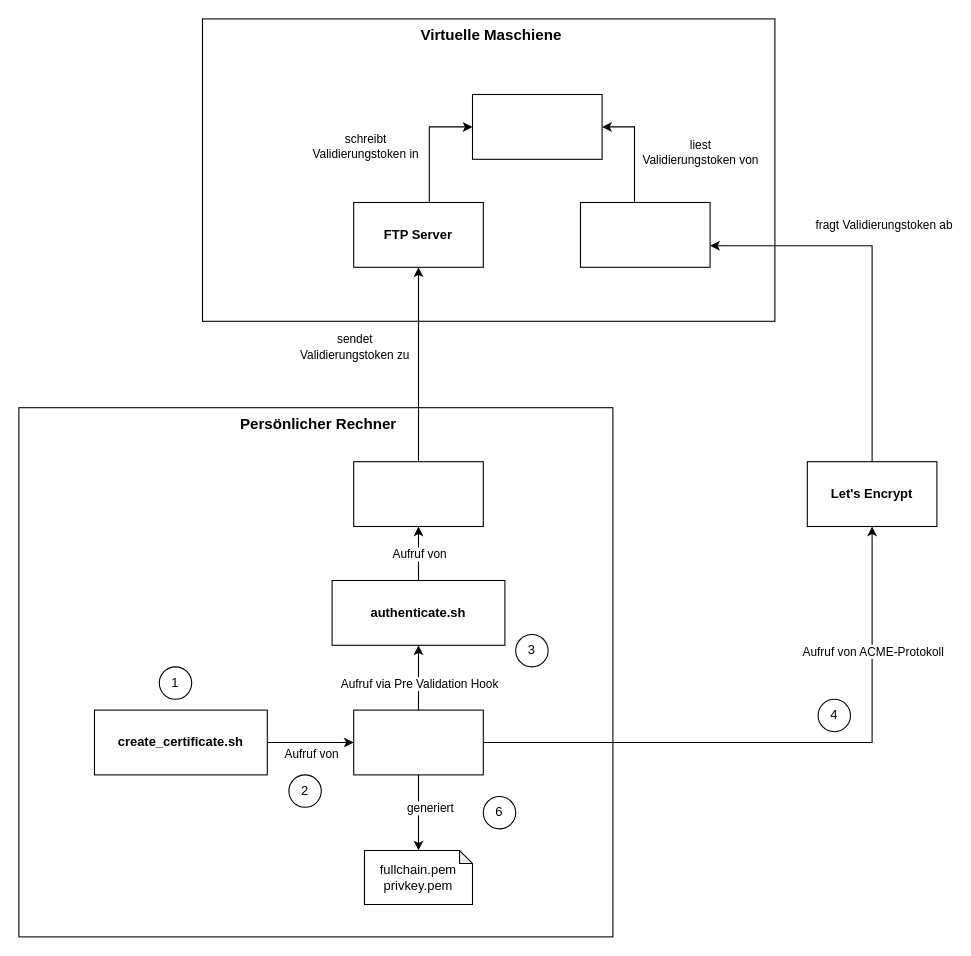
Some shapes in this 971 by 956 pixel diagram are drawn without their labels. The shapes that lost their labels are listed below. From the top down, each one's box as (x1, y1, x2, y2) in pixels, then its label:
(471, 93, 602, 159): Webspace
(579, 201, 710, 267): Webserver
(353, 461, 483, 526): ftp-upload.py
(353, 709, 483, 775): certbot
